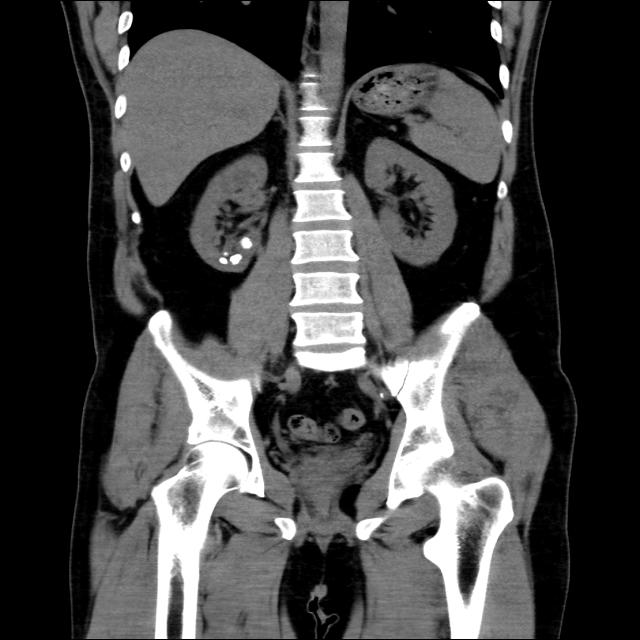kidneystone: (219, 251, 243, 265), (240, 236, 253, 249)
